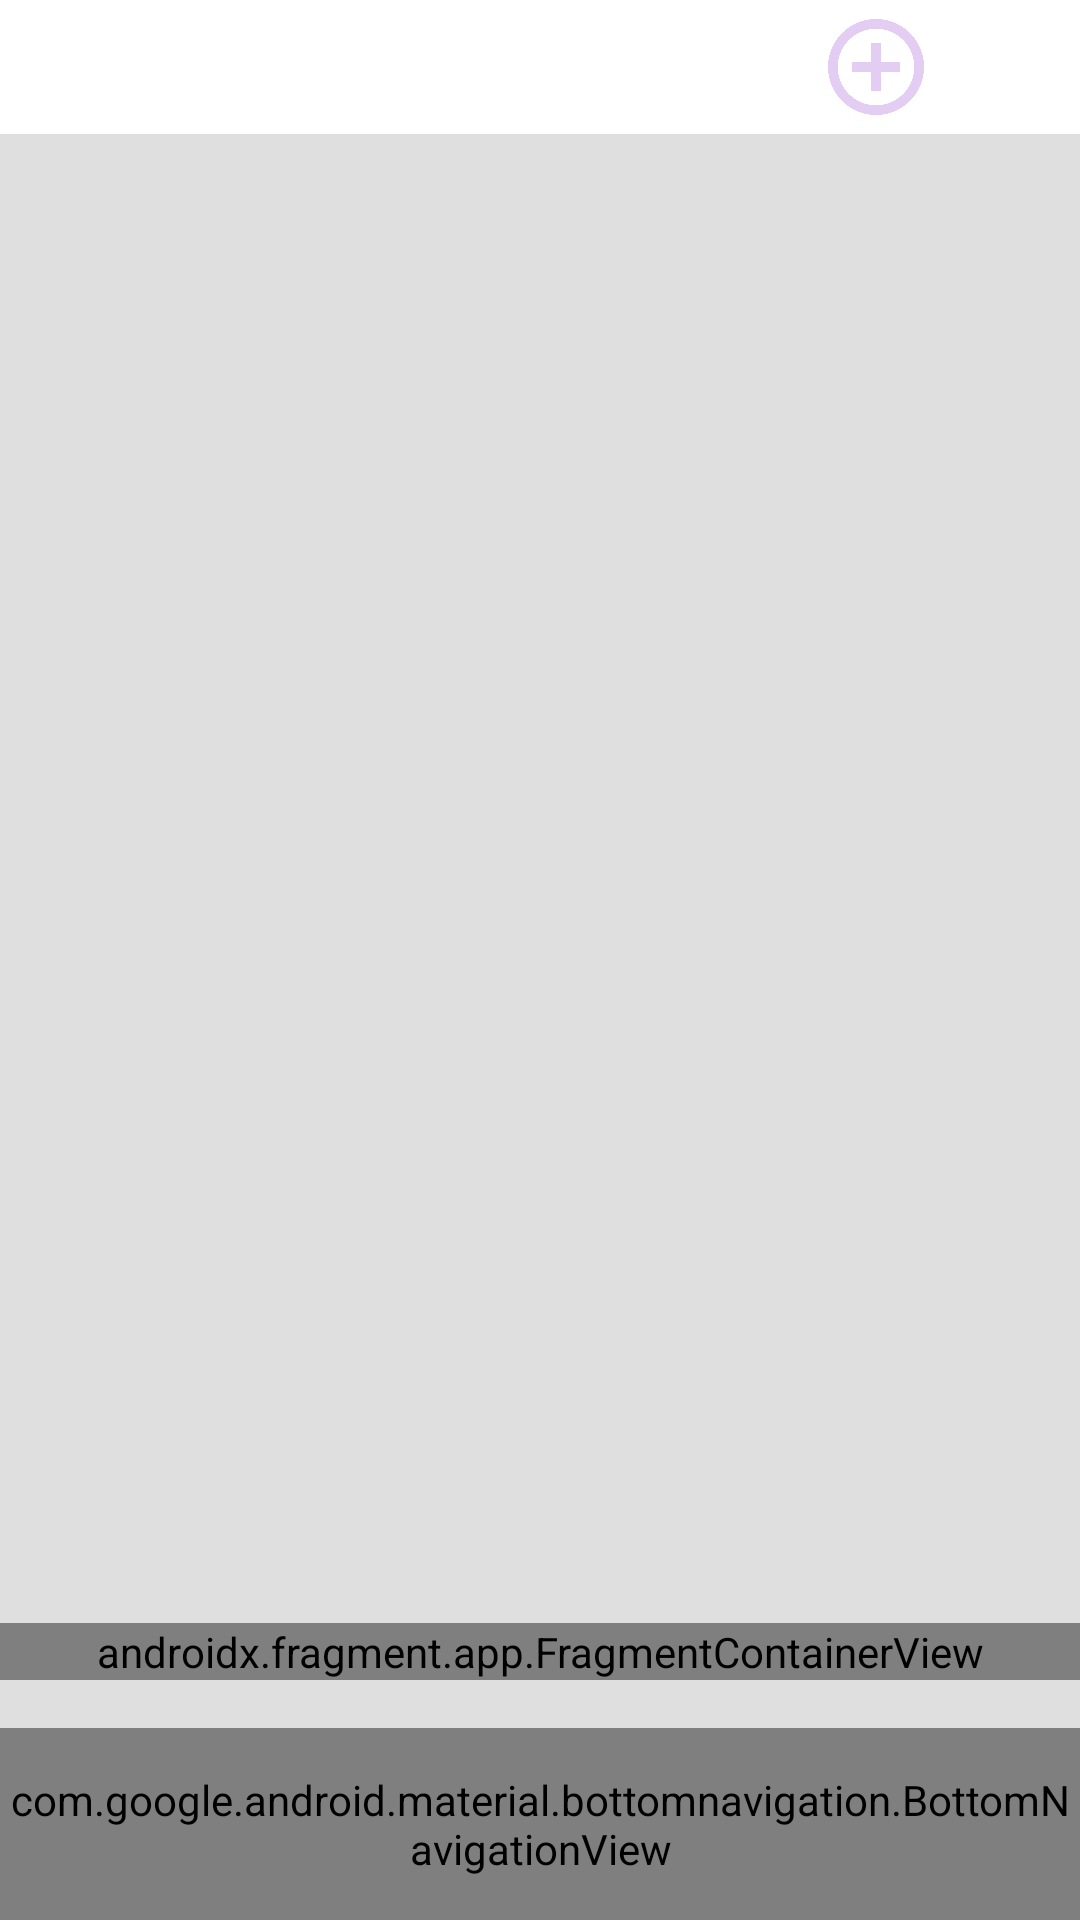

Icons on this 1080px×1920px Android screen, each with its box as box(x1, y1, x2, y2):
add: box(828, 19, 924, 115)
